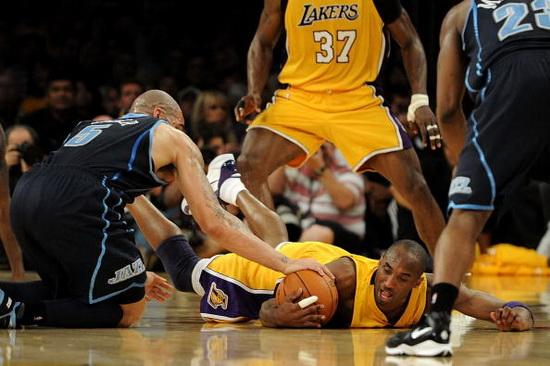bending: (393, 1, 550, 365), (1, 84, 224, 327)
down: (103, 137, 547, 332)
up: (236, 1, 434, 206)
